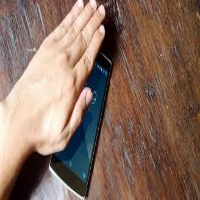ring: (64, 7, 111, 64)
